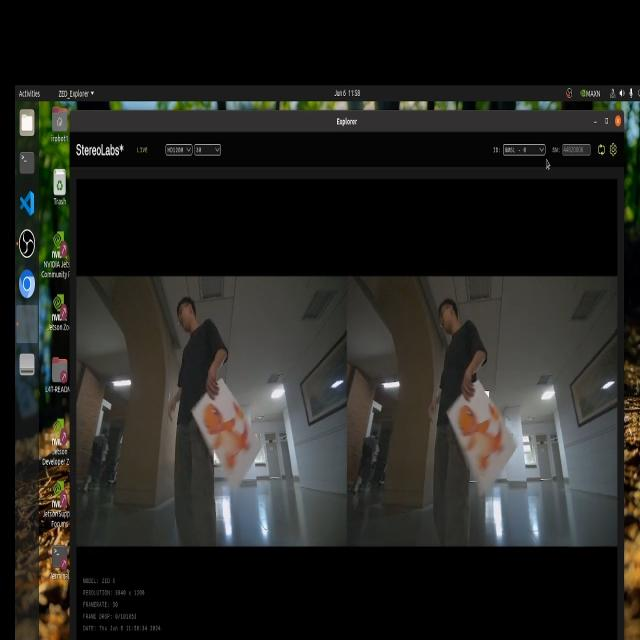red: (208, 394, 264, 481), (454, 400, 510, 474)
